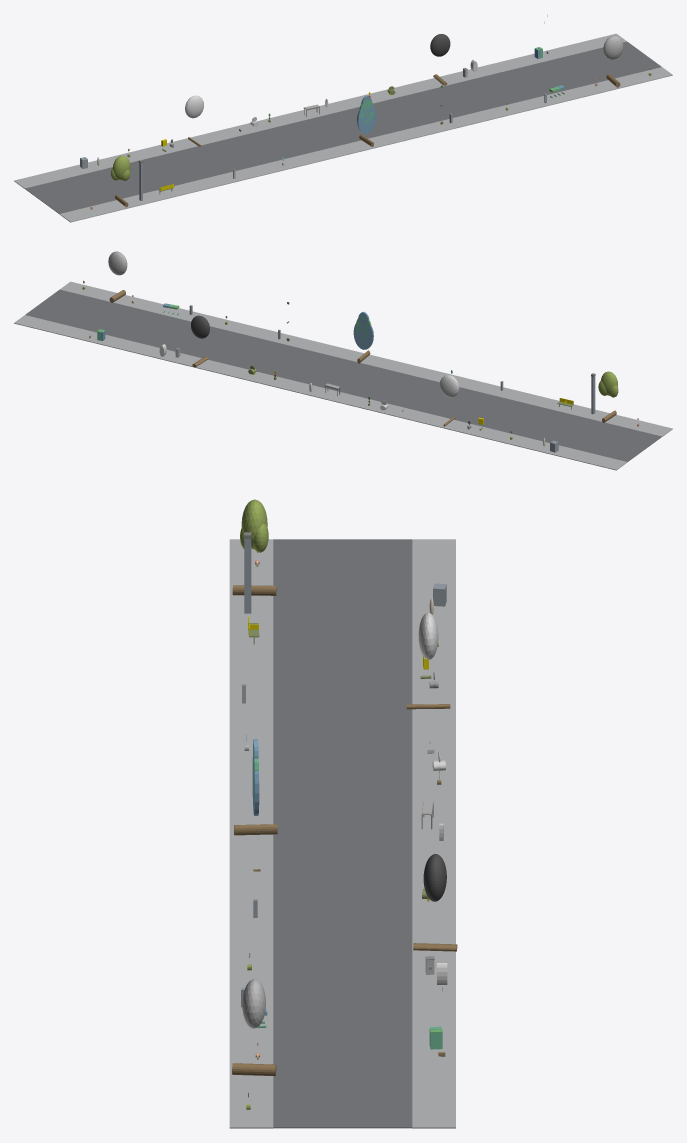
The picture shows the model from 3 angles, top to bottom: view 1: azimuth 30°, elevation 25°; view 2: azimuth 150°, elevation 25°; view 3: azimuth 270°, elevation 25°; orthographic projection. The views are drawn at different scales.
Visible parts, largest first — view 1: road_slab, sidewalk_left, sidewalk_right, inst_0014, inst_0016, inst_0012, inst_0015, inst_0013; view 2: road_slab, sidewalk_right, sidewalk_left, inst_0014, inst_0012, inst_0016, inst_0015, inst_0013; view 3: road_slab, sidewalk_left, sidewalk_right, inst_0012, inst_0016, inst_0015, inst_0014, inst_0013.
Part boxes in pixels (<box>): road_slab: <box>25,41,661,213</box>; sidewalk_left: <box>59,67,672,222</box>; sidewalk_right: <box>14,33,626,188</box>; inst_0014: <box>357,95,376,146</box>; inst_0016: <box>603,36,623,87</box>; inst_0012: <box>111,155,130,207</box>; inst_0015: <box>430,34,450,85</box>; inst_0013: <box>185,95,203,146</box>; road_slab: <box>25,289,661,461</box>; sidewalk_right: <box>14,315,627,470</box>; sidewalk_left: <box>60,281,672,436</box>; inst_0014: <box>353,312,373,363</box>; inst_0012: <box>598,371,618,422</box>; inst_0016: <box>108,251,127,302</box>; inst_0015: <box>191,315,209,367</box>; inst_0013: <box>439,375,459,426</box>; road_slab: <box>273,539,412,1128</box>; sidewalk_left: <box>229,539,273,1128</box>; sidewalk_right: <box>412,539,455,1128</box>; inst_0012: <box>232,499,276,595</box>; inst_0016: <box>232,979,276,1076</box>; inst_0015: <box>413,854,457,951</box>; inst_0014: <box>234,739,277,835</box>; inst_0013: <box>406,612,450,709</box>.
Bounding box in the file's own units: 80 × 6.08 × 13.08.
